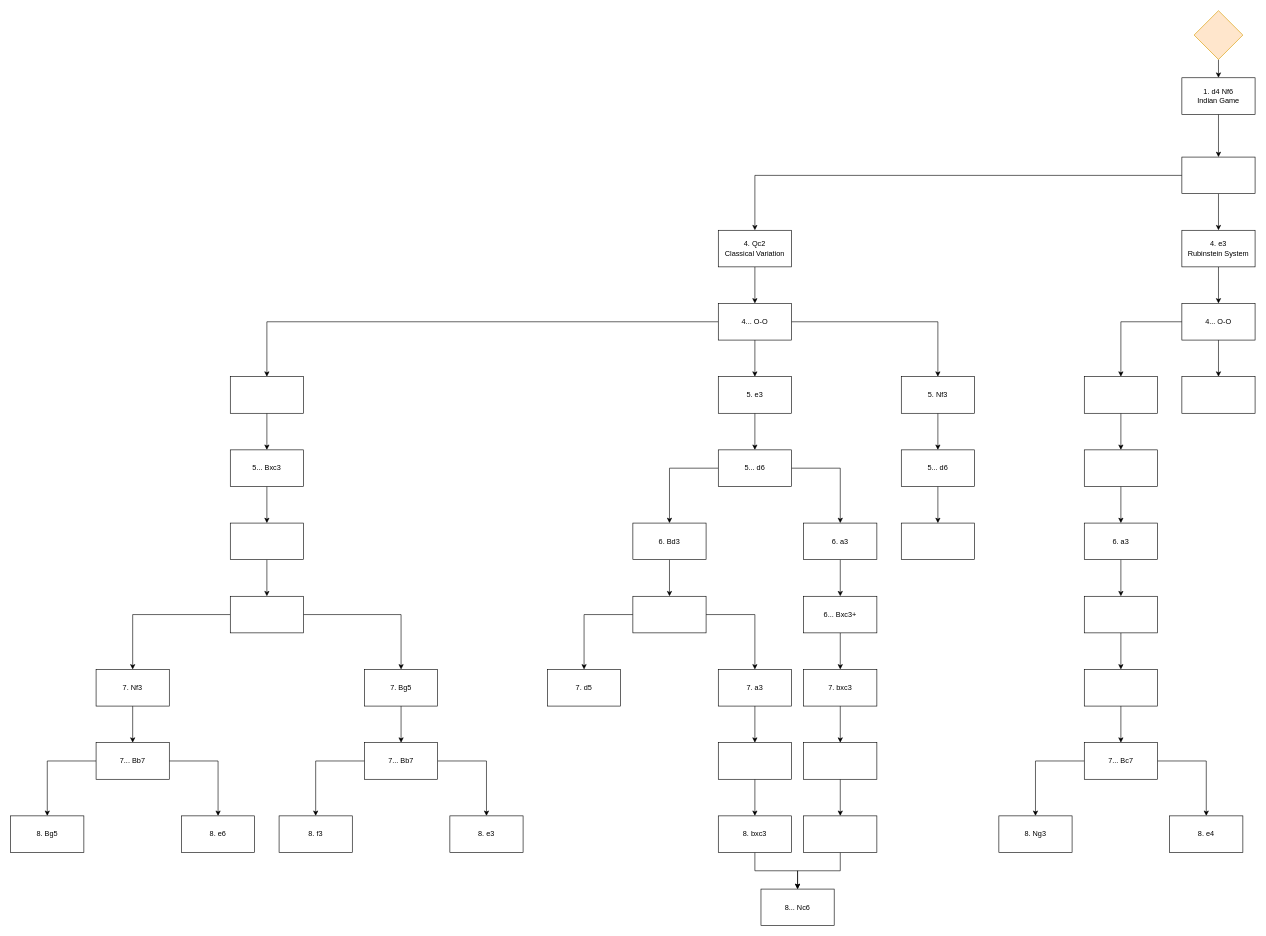
Some shapes in this 1266 by 936 pixel diagram are drawn without their labels. The centre of each missing label's shape, as x and y in pixels:
"2. c4 e6 3. Nc3 Bb4 Nimzo-Indian" goes at point 1218,175.
"5. a3" goes at point 266,394.
"5. Bd3" goes at point 1218,394.
"5. Nge2" goes at point 1120,394.
"5... c6" goes at point 1120,467.
"6. Bg5" goes at point 937,541.
"6. Qxc3" goes at point 266,541.
"6... b6" goes at point 266,614.
"6... Ba5" goes at point 1120,614.
"6... e5" goes at point 669,614.
"7. b4" goes at point 1120,687.
"7... Bxc3+" goes at point 754,760.
"7... e5" goes at point 840,760.
"8. Bd3" goes at point 840,833.
"New Game" goes at point 1218,34.
